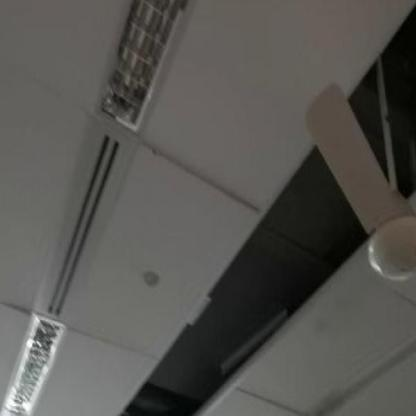light_off: (73, 0, 225, 145), (0, 284, 74, 415)
